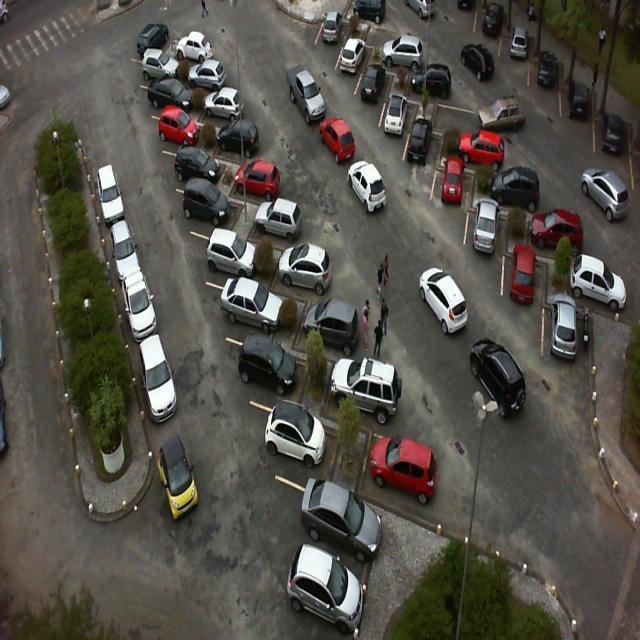space-empty: (434, 94, 478, 134), (366, 11, 411, 48)
space-occupied: (304, 468, 388, 582), (271, 390, 348, 479), (317, 353, 388, 431), (365, 425, 432, 507), (245, 326, 312, 406), (223, 270, 286, 343), (302, 288, 362, 358), (272, 235, 337, 297), (570, 260, 630, 322), (542, 303, 591, 374), (204, 224, 262, 281), (254, 192, 315, 246), (192, 176, 248, 234), (237, 148, 295, 200), (533, 205, 585, 263), (468, 198, 507, 272), (503, 241, 543, 312), (202, 78, 258, 127), (496, 165, 552, 214), (171, 139, 224, 188), (431, 163, 472, 225), (400, 122, 442, 182), (158, 101, 207, 151), (464, 124, 514, 170), (315, 9, 352, 68), (380, 92, 416, 152), (222, 117, 272, 160), (410, 61, 458, 104), (354, 63, 392, 116), (335, 40, 372, 94), (151, 75, 197, 116), (561, 75, 590, 136), (139, 46, 182, 87), (175, 31, 220, 68), (192, 58, 237, 94), (500, 30, 532, 79), (529, 50, 560, 100), (389, 38, 428, 74)
